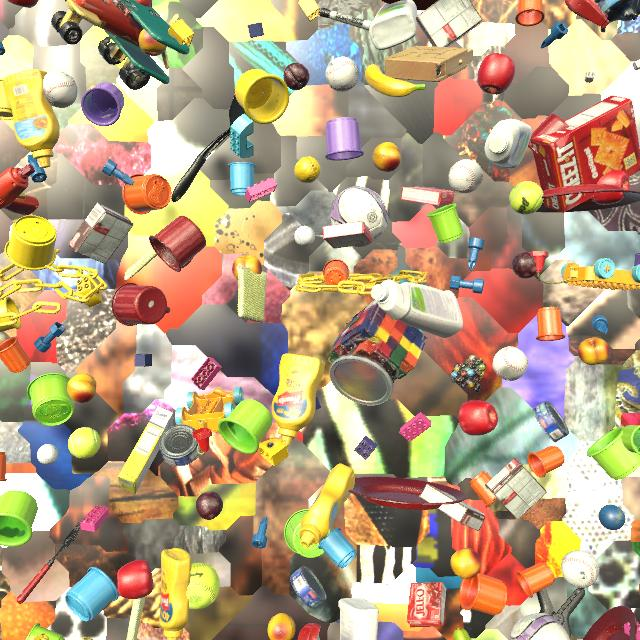ycb_002_master_chef_can: (639, 14, 640, 15)
ycb_003_cracker_box: (530, 95, 640, 213)
ycb_004_sugar_box: (118, 406, 174, 494)
ycb_005_tomato_soup_can: (112, 0, 113, 1)
ycb_006_mustard_bottle: (2, 69, 60, 168), (271, 354, 325, 446), (300, 463, 355, 548), (159, 548, 192, 640)
ycb_007_tuna_fish_can: (159, 424, 201, 467), (290, 566, 327, 608), (533, 401, 569, 442)
ycb_008_pudding_box: (68, 203, 134, 264), (484, 457, 547, 520), (416, 0, 482, 47), (419, 484, 485, 531), (65, 0, 67, 3)
ycb_009_gelatin_box: (407, 582, 446, 627), (322, 221, 373, 249), (401, 187, 455, 206)
ycb_011_banana: (365, 64, 426, 97)
ycb_013_apple: (477, 53, 515, 95), (117, 560, 154, 599), (459, 400, 498, 436), (592, 170, 629, 205), (7, 0, 39, 8)
ycb_014_lemon: (294, 156, 321, 183)
ycb_015_peach: (450, 548, 481, 579), (67, 373, 97, 403), (578, 337, 610, 365), (373, 142, 401, 172), (139, 29, 167, 56), (268, 613, 296, 640), (232, 255, 262, 280)
ycb_016_pear: (453, 627, 472, 640)
ycb_017_orange: (639, 583, 640, 594)
ycb_018_plum: (196, 491, 223, 520), (283, 63, 310, 91), (512, 252, 537, 279)
